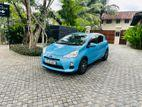car: (39, 29, 111, 76)
